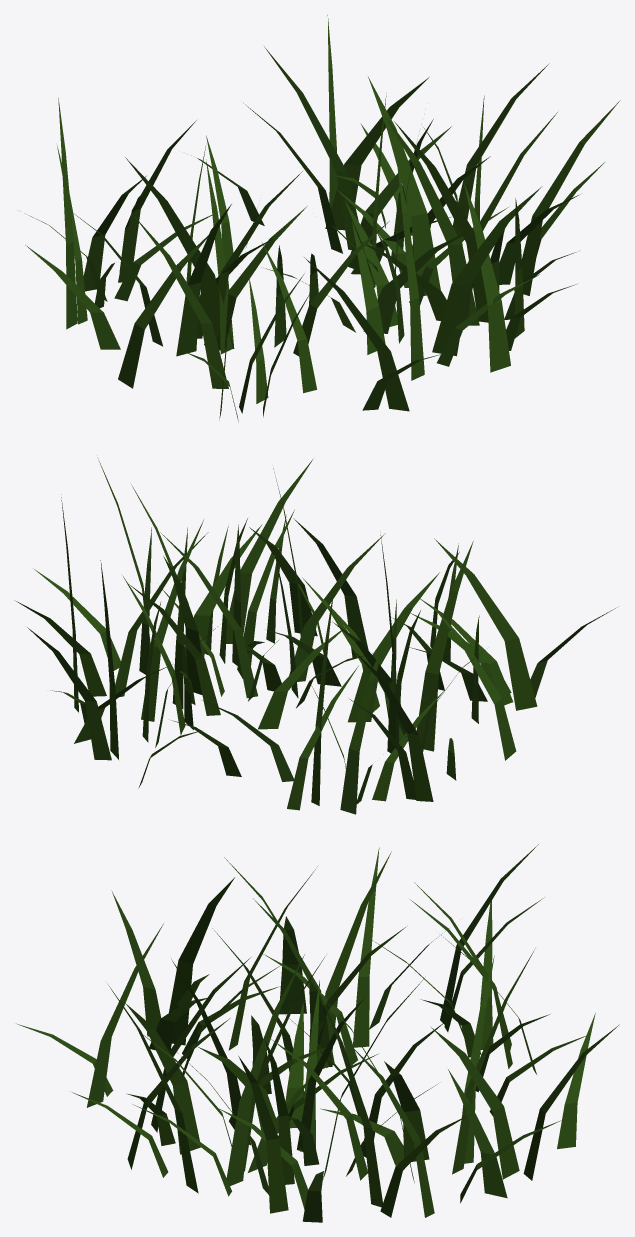
The model's file is grass_short.obj.
3 views of the same model, one above another, from view 1: azimuth 30°, elevation 25°; view 2: azimuth 150°, elevation 25°; view 3: azimuth 270°, elevation 25° (orthographic). The views are drawn at different scales.
Visible parts, largest first — view 1: Grass_Green; view 2: Grass_Green; view 3: Grass_Green.
Part boxes in pixels (x1,y1,x2,y2): Grass_Green: (24, 15, 620, 421); Grass_Green: (14, 457, 617, 814); Grass_Green: (16, 844, 619, 1222).
Bounding box in the file's own units: 1.34 × 0.4706 × 1.29.
